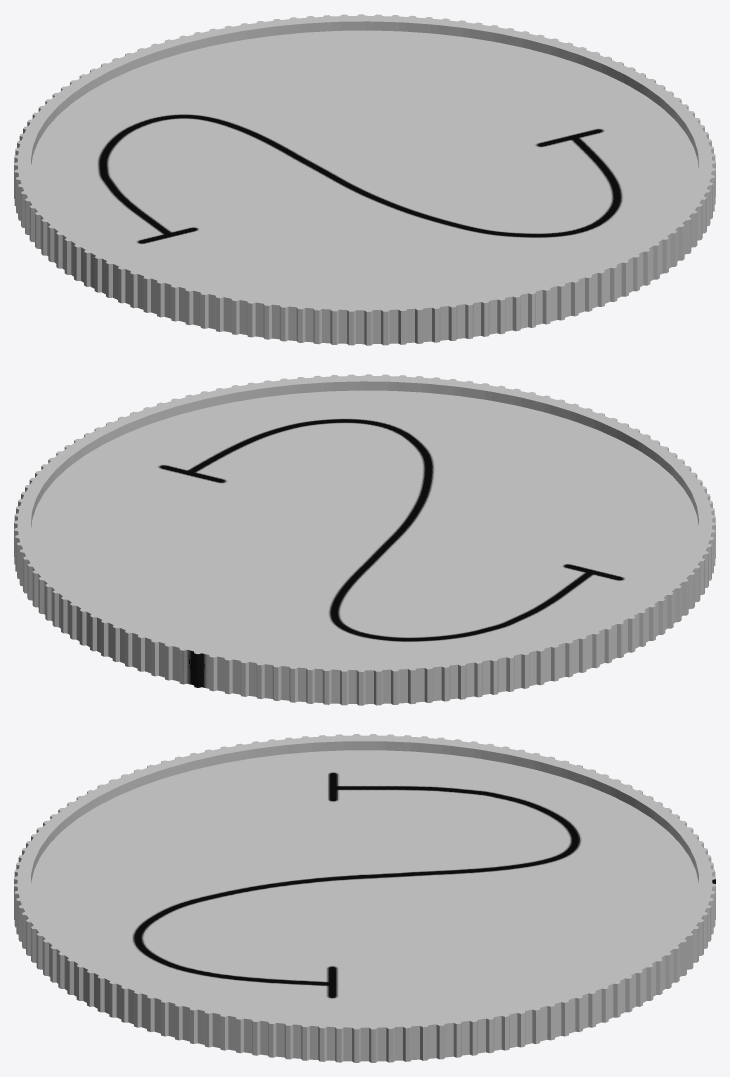
The model's file is overunder.obj.
3 renders of one model, top to bottom at view 1: azimuth 30°, elevation 25°; view 2: azimuth 150°, elevation 25°; view 3: azimuth 270°, elevation 25°, orthographic.
Parts seen in each view (by area): view 1: Cylinder; view 2: Cylinder; view 3: Cylinder.
Boxes of the visible parts, bbox=[...] form: Cylinder: bbox=[14, 14, 715, 345]; Cylinder: bbox=[14, 374, 715, 705]; Cylinder: bbox=[14, 734, 715, 1062].
Bounding box in the file's own units: 8.1 × 0.4326 × 8.15.
Materials: 1 (1 with a texture image).
